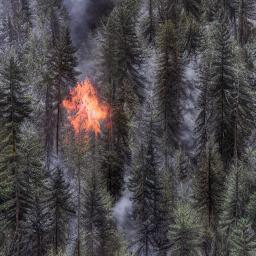Medium fire: (61, 77, 120, 142)
